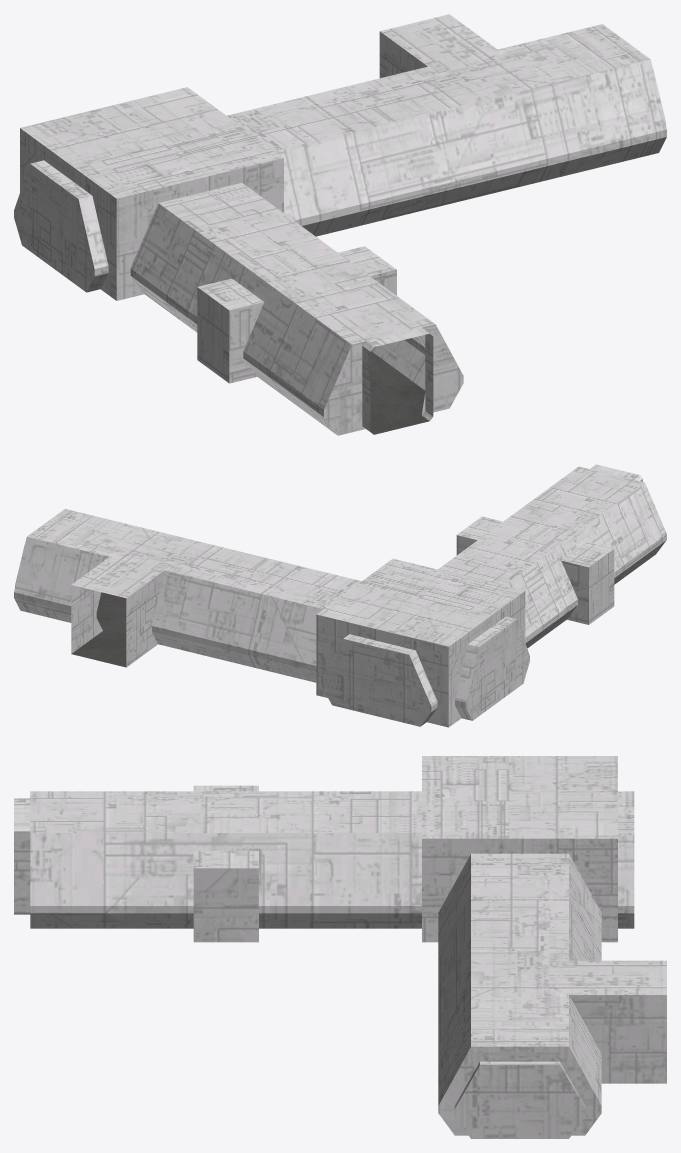
File: thm_spc_star_destroyer_s01_r21_hallway04_mesh_r21.fbx
3 views of the same model, one above another, from view 1: azimuth 30°, elevation 25°; view 2: azimuth 150°, elevation 25°; view 3: azimuth 270°, elevation 25° (orthographic). The views are drawn at different scales.
Parts seen in each view (by area): view 1: mesh_node; view 2: mesh_node; view 3: mesh_node.
Boxes of the visible parts, x1,y1,x2,y2 form: mesh_node: (14,14,666,435); mesh_node: (14,464,666,727); mesh_node: (14,756,666,1138).
Size of the model in its own units: 20.75 by 3.5 by 20.
2 materials, 2 textured.
